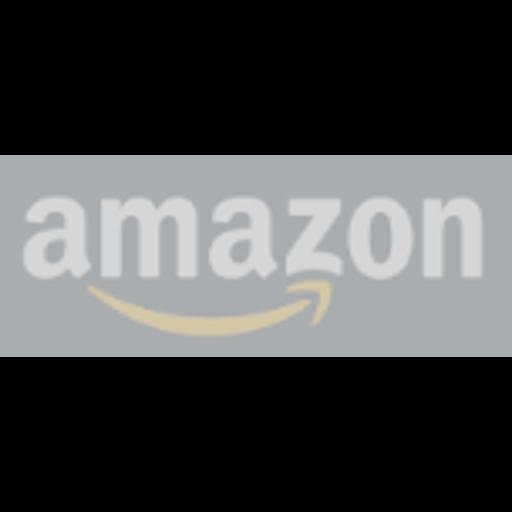Amazon: (0, 155, 512, 357)
